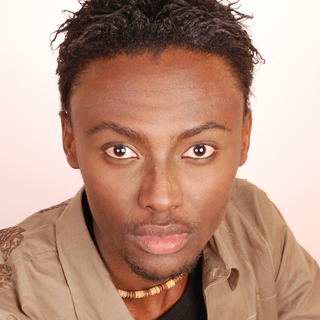eye: (94, 138, 147, 166), (173, 139, 222, 165)
